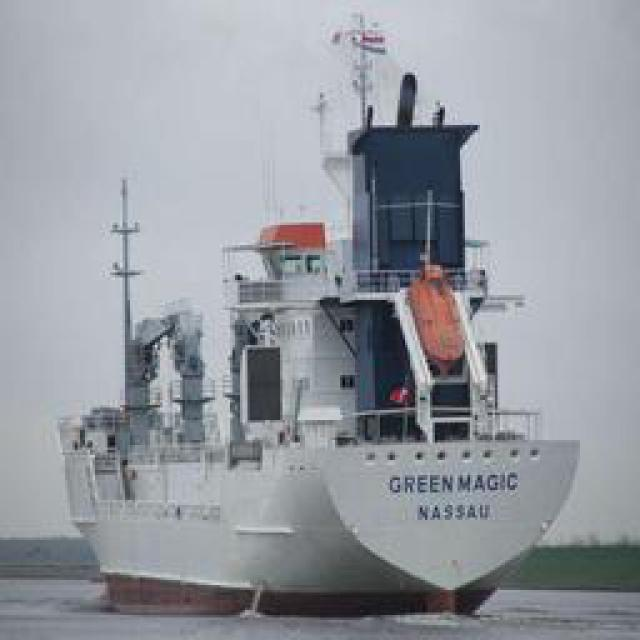Ship: (57, 25, 577, 610)
